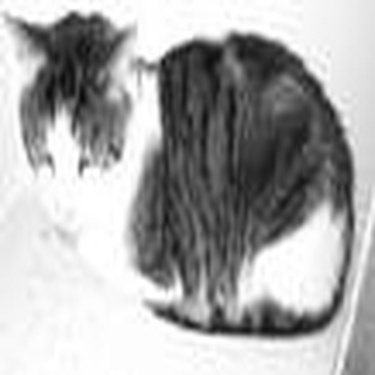cat: (1, 9, 354, 334)
